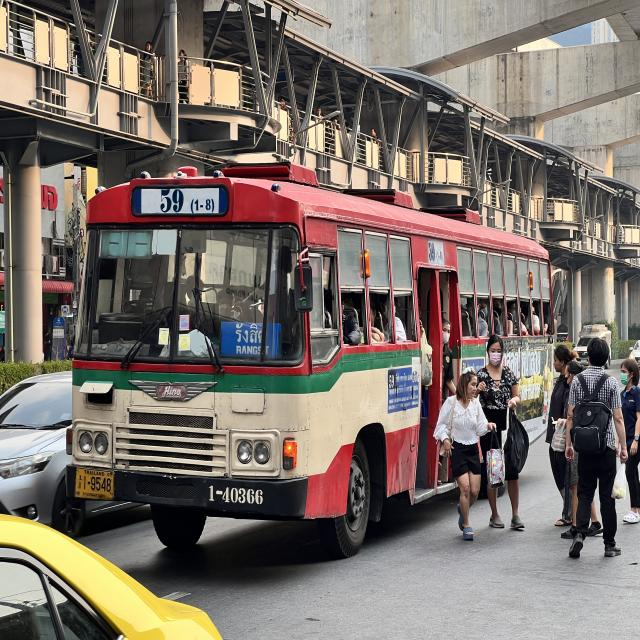BMTA-bus: (62, 158, 559, 574)
Bus-Line-Number: (140, 184, 218, 216)
Destination-Sign-Normal: (222, 322, 284, 359)
